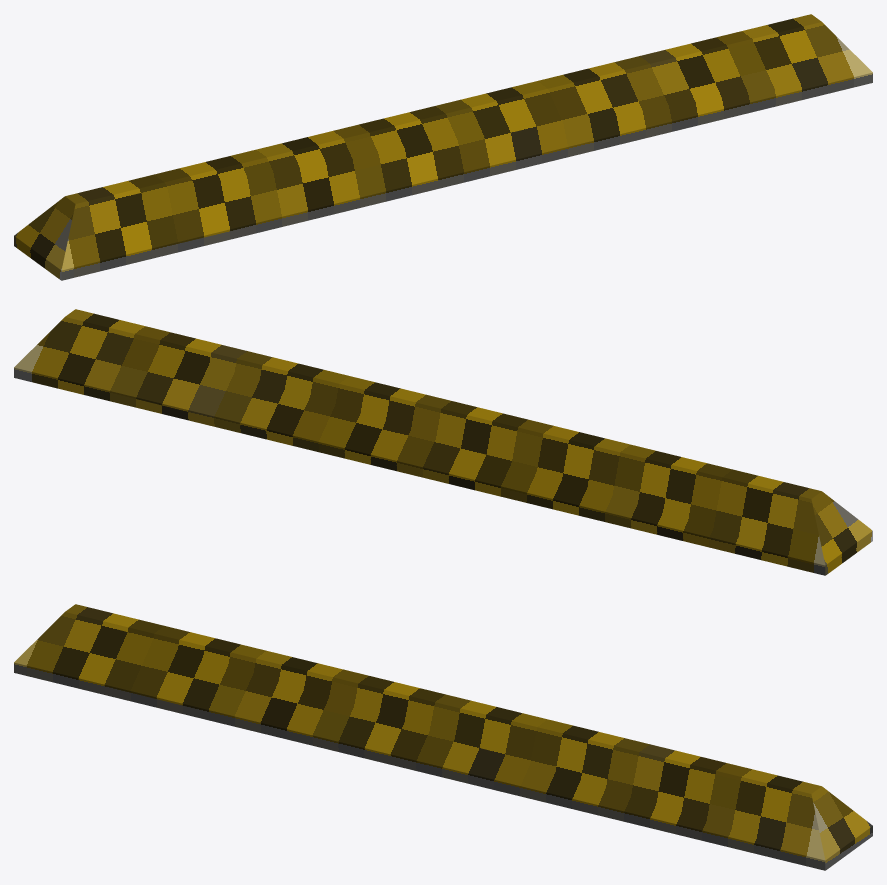
File: mesh_hump_02.FBX
The picture shows the model from 3 angles, top to bottom: view 1: azimuth 30°, elevation 25°; view 2: azimuth 150°, elevation 25°; view 3: azimuth 330°, elevation 25°; orthographic projection.
Visible parts, largest first — view 1: Object164; view 2: Object164; view 3: Object164.
Part boxes in pixels (x1,y1,x2,y2): Object164: (14,14,872,280); Object164: (14,309,872,575); Object164: (14,604,872,870).
Size of the model in its own units: 1.99 by 0.1295 by 0.2016.
